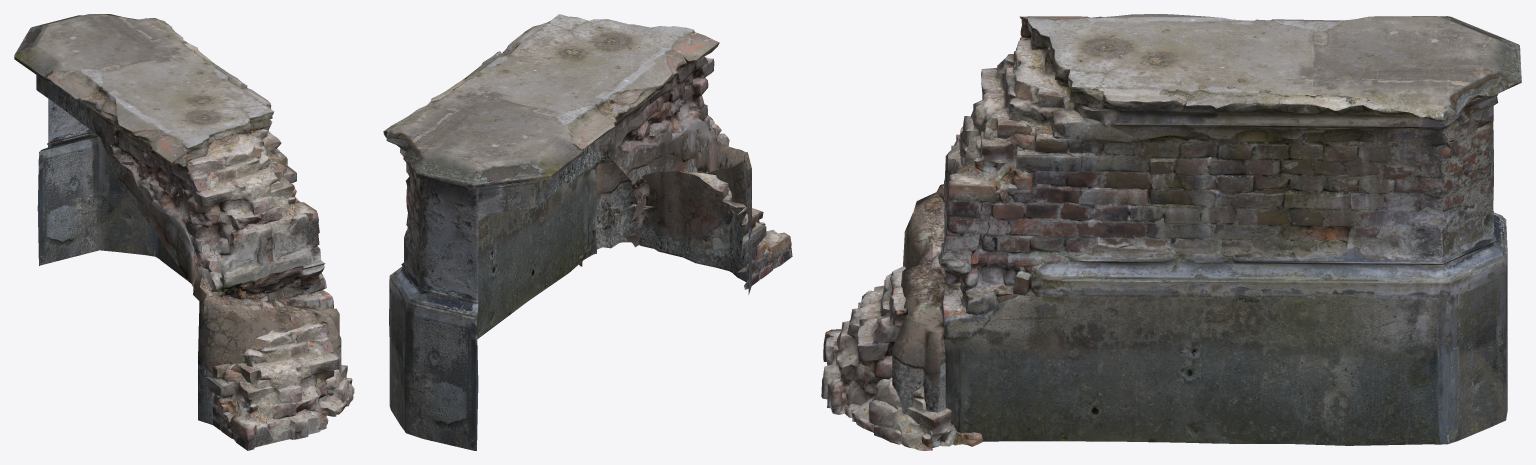
File: sm_ChapelWall_03_02.fbx
3 views of the same model, side by side, from view 1: azimuth 30°, elevation 25°; view 2: azimuth 150°, elevation 25°; view 3: azimuth 270°, elevation 25° (orthographic). The views are drawn at different scales.
Visible parts, largest first — view 1: sm_ChapelWall_03_02_LOD0; view 2: sm_ChapelWall_03_02_LOD0; view 3: sm_ChapelWall_03_02_LOD0.
Part boxes in pixels (x1,y1,x2,y2): sm_ChapelWall_03_02_LOD0: [14, 14, 354, 450]; sm_ChapelWall_03_02_LOD0: [383, 14, 792, 450]; sm_ChapelWall_03_02_LOD0: [821, 14, 1521, 450].
Bounding box in the file's own units: 133 × 372 × 205.
